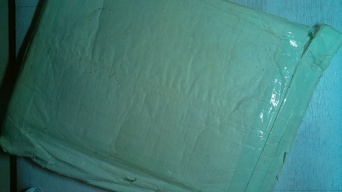l: (13, 1, 331, 189)
